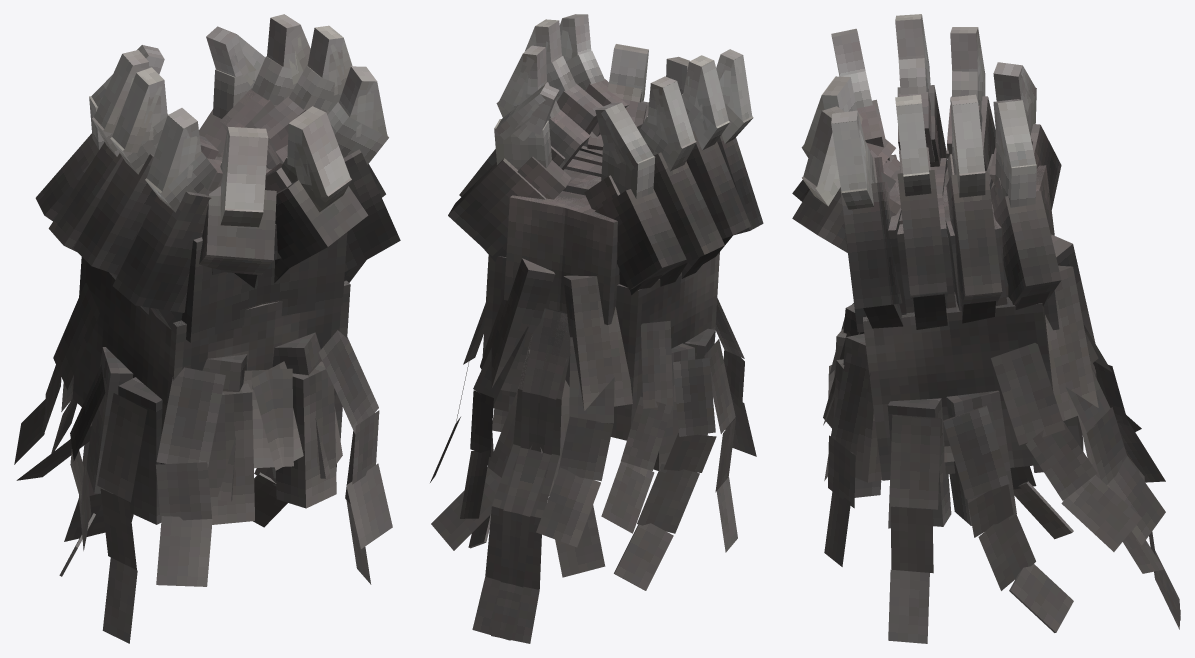
File: nf_claw.glb
The picture shows the model from 3 angles, left to right: view 1: azimuth 30°, elevation 25°; view 2: azimuth 150°, elevation 25°; view 3: azimuth 270°, elevation 25°; orthographic projection. The views are drawn at different scales.
Visible parts, largest first — view 1: main__Hand_L, main__Hand_R, off__Hand_L, off__Hand_R; view 2: main__Hand_L, main__Hand_R, off__Hand_L, off__Hand_R; view 3: off__Hand_R, off__Hand_L, main__Hand_R, main__Hand_L.
Part boxes in pixels (x1,y1,x2,y2): main__Hand_L: [14, 45, 368, 643]; main__Hand_R: [27, 14, 400, 584]; off__Hand_L: [45, 45, 367, 586]; off__Hand_R: [16, 14, 399, 548]; main__Hand_L: [444, 44, 763, 590]; main__Hand_R: [448, 14, 712, 643]; off__Hand_L: [431, 44, 756, 640]; off__Hand_R: [430, 14, 689, 576]; off__Hand_R: [793, 76, 1173, 643]; off__Hand_L: [792, 14, 1179, 629]; main__Hand_R: [792, 76, 1180, 619]; main__Hand_L: [792, 15, 1180, 624].
Size of the model in its own units: 0.561 by 1.07 by 0.6724.
Materials: 1 (1 with a texture image).
